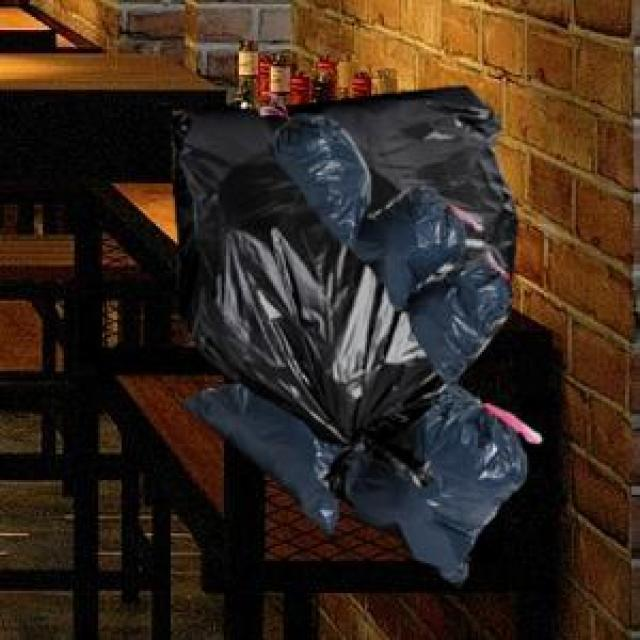Vinyl: (179, 88, 539, 583)
